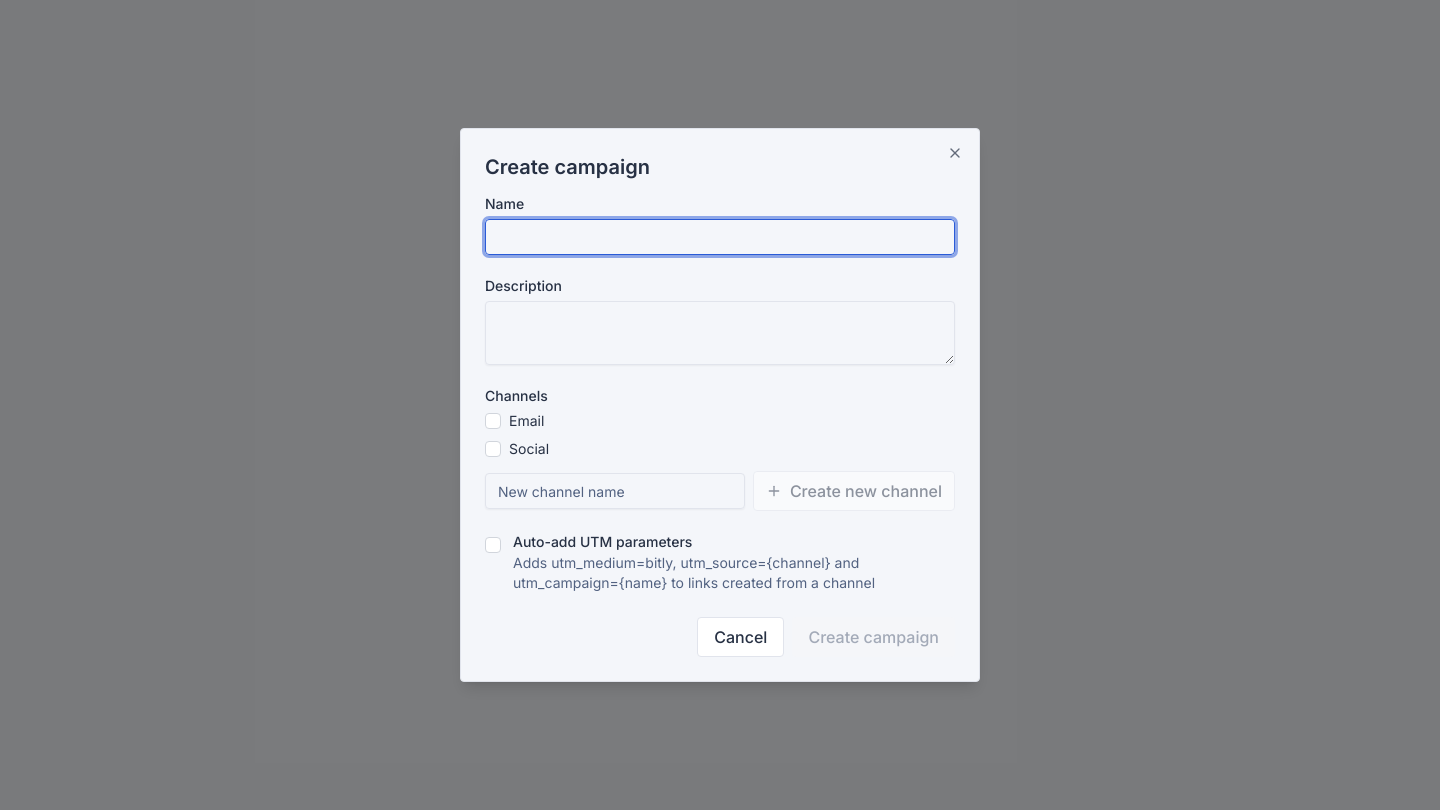
Test: CampaignDialog › shows the API error inline and stays open
Type "X" into the field labelled "Name".
click(720, 237); type("X")  # box [485,219,955,255]
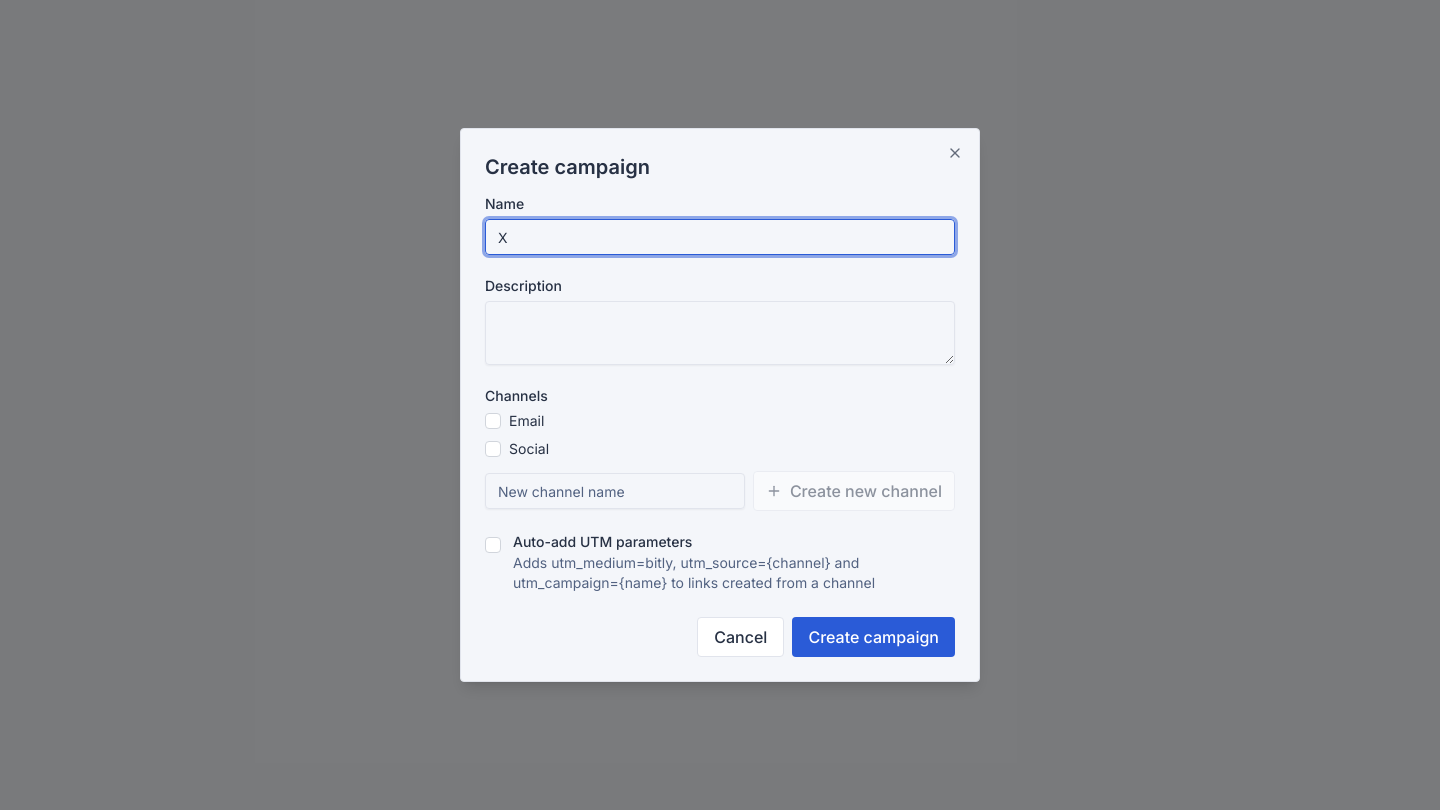
Click the button "Create campaign".
click(874, 637)  # box [792,617,955,657]
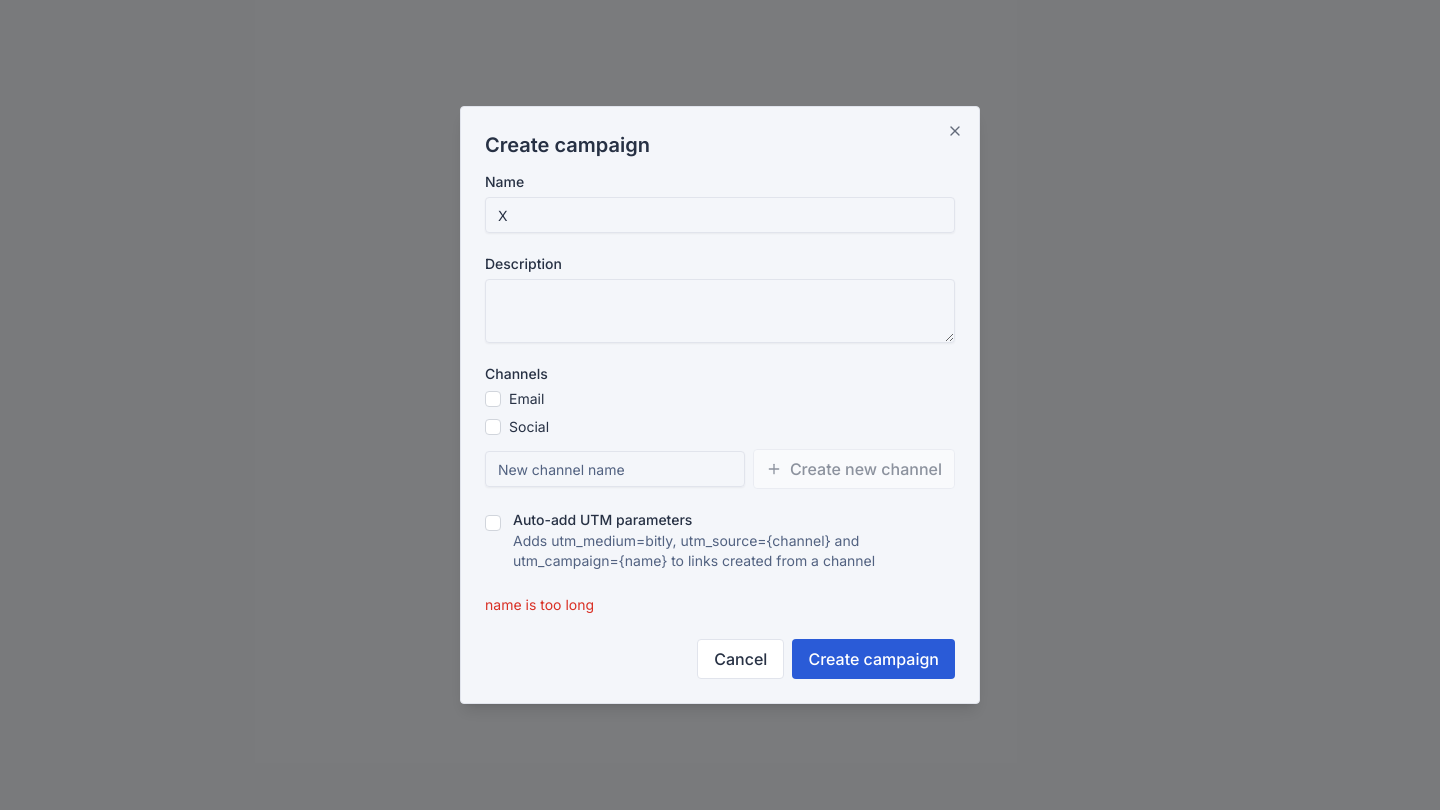
Result: the message reads "name is too long" at [485,596,594,613]
